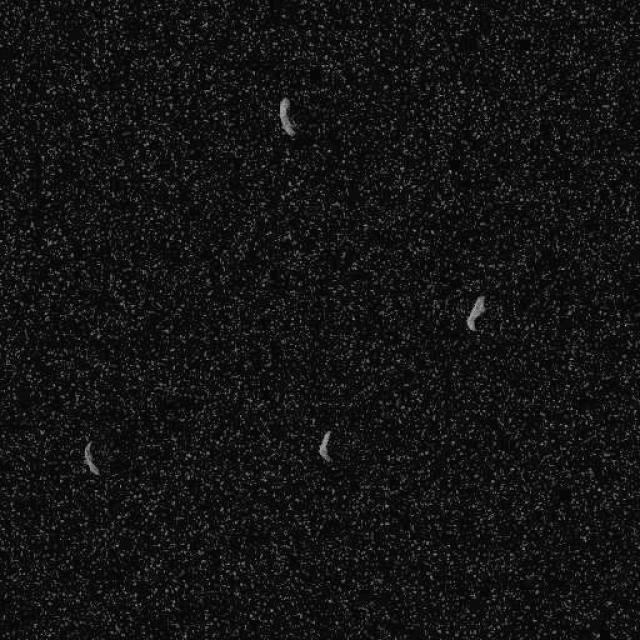D2: (276, 95, 296, 136), (465, 294, 486, 332), (81, 439, 100, 476), (316, 428, 334, 464)
